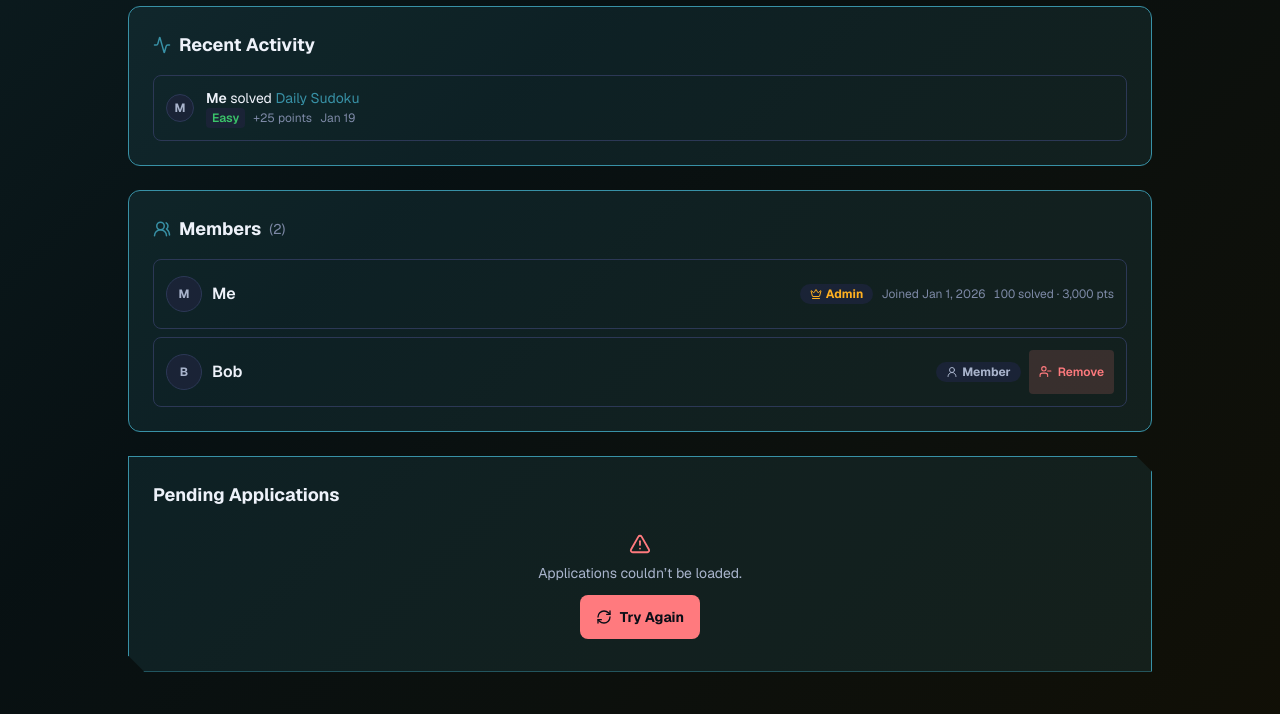
Test: Team Detail page — pending applications (Pass 16B.2) › 18. retry success replaces the error state
(page scrolled)
Expected: the text "Applications couldn’t be loaded." is shown, [538, 564, 742, 582]
What coordinates should you click on to do the following:
click the button "Try Again"
I would click on:
 (640, 616)
Its box is [580, 594, 700, 638].
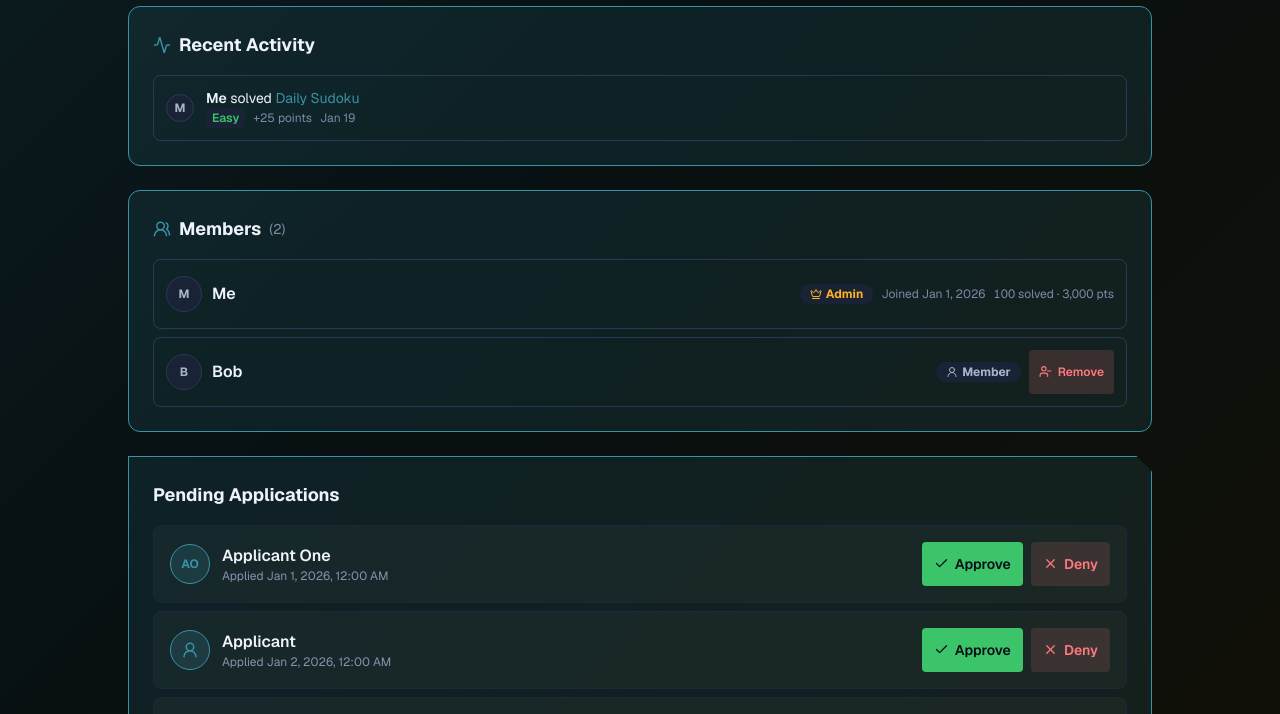
Expected: the text "Applications couldn’t be loaded." is gone
Expected: the text "Applicant One" is shown, [222, 544, 331, 566]
